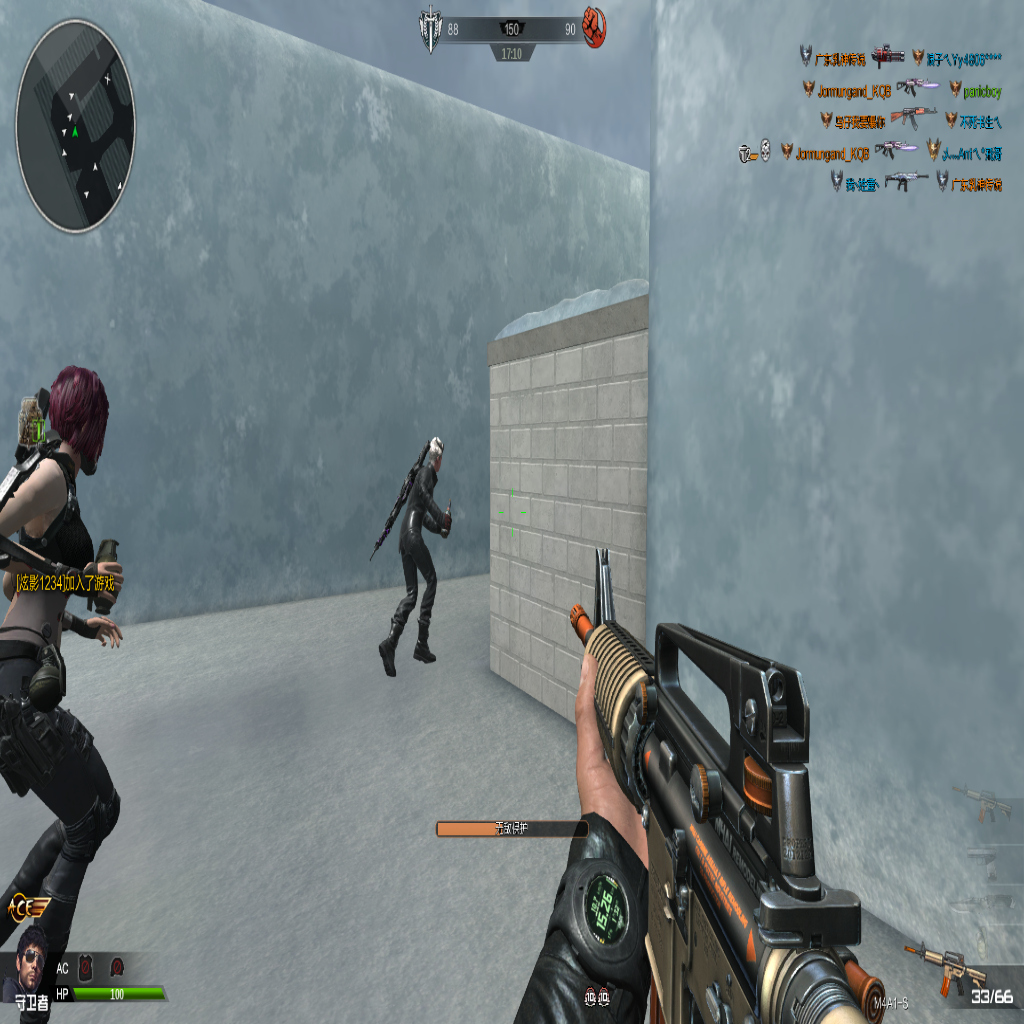ct: (370, 436, 455, 682)
